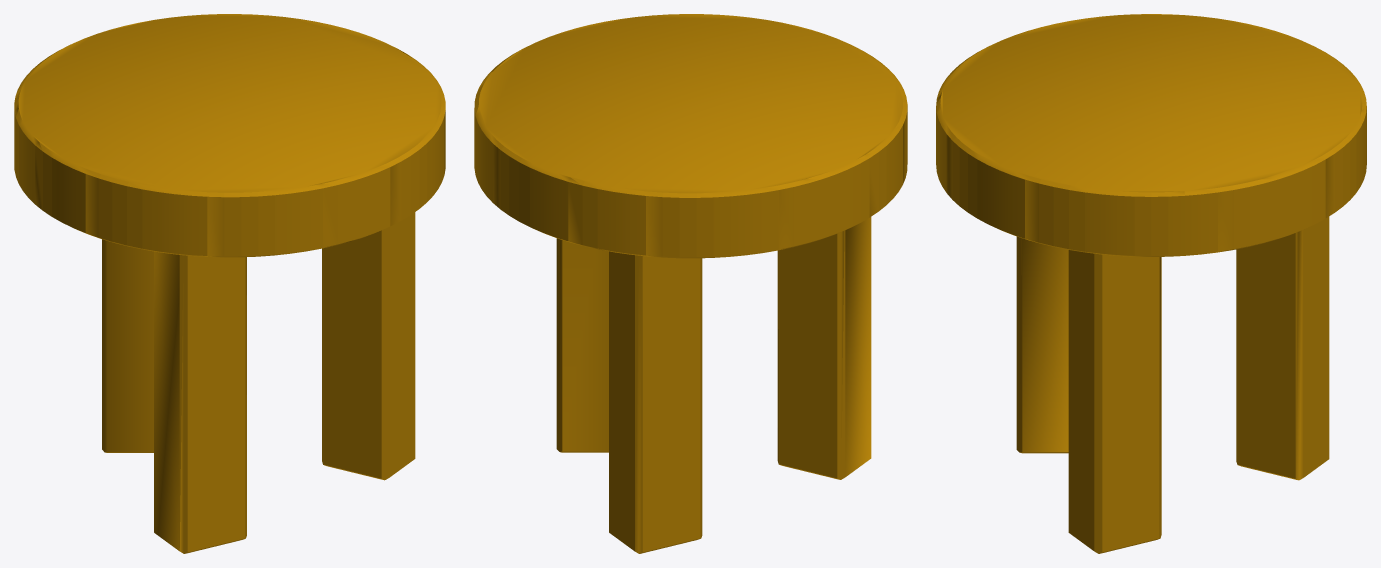
File: 가상실습실_의자.fbx
3 renders of one model, left to right at view 1: azimuth 30°, elevation 25°; view 2: azimuth 150°, elevation 25°; view 3: azimuth 270°, elevation 25°, orthographic.
Visible parts, largest first — view 1: 의자3; view 2: 의자3; view 3: 의자3.
Boxes of the visible parts, x1=… form: 의자3: x1=14, y1=14, x2=445, y2=553; 의자3: x1=474, y1=14, x2=907, y2=553; 의자3: x1=936, y1=14, x2=1366, y2=553.
Bounding box in the file's own units: 3 × 2.89 × 3.
